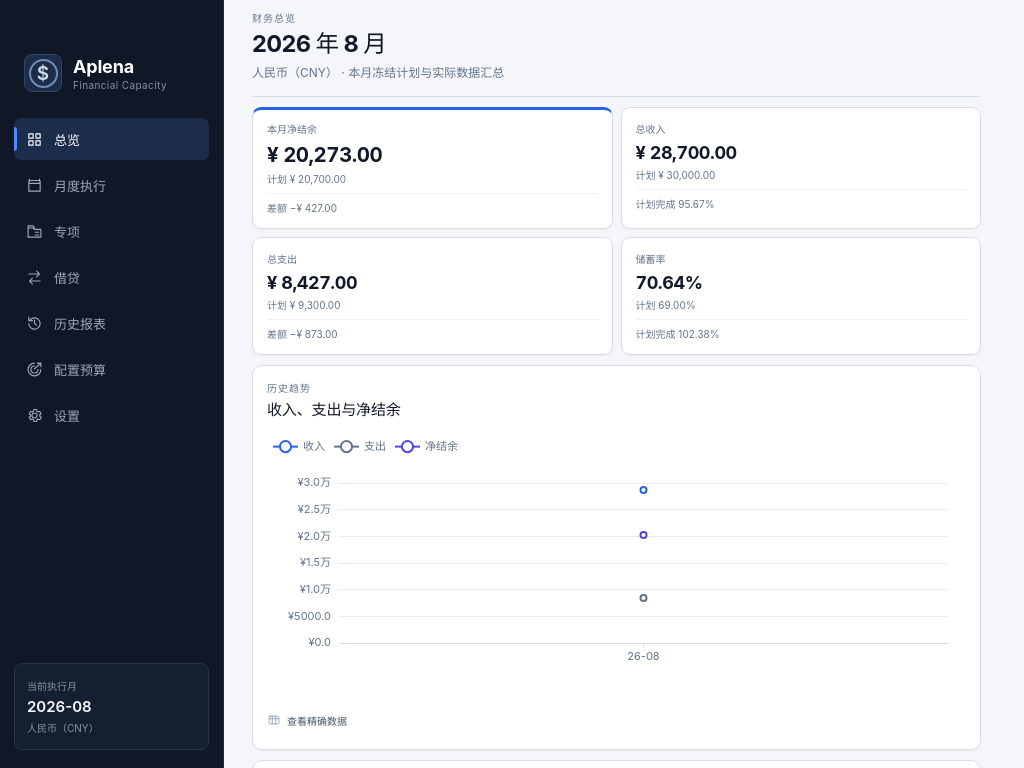
it: planning workflows › remounts the animated route view and resets scrolling when sidebar navigation changes pages
This screenshot has width=1024, height=768.
(page scrolled)
Check: the heading "2026 年 8 月" is shown, box [252,29,386,58]
Click the link "设置" at (53, 415), box [26,406,80,424]
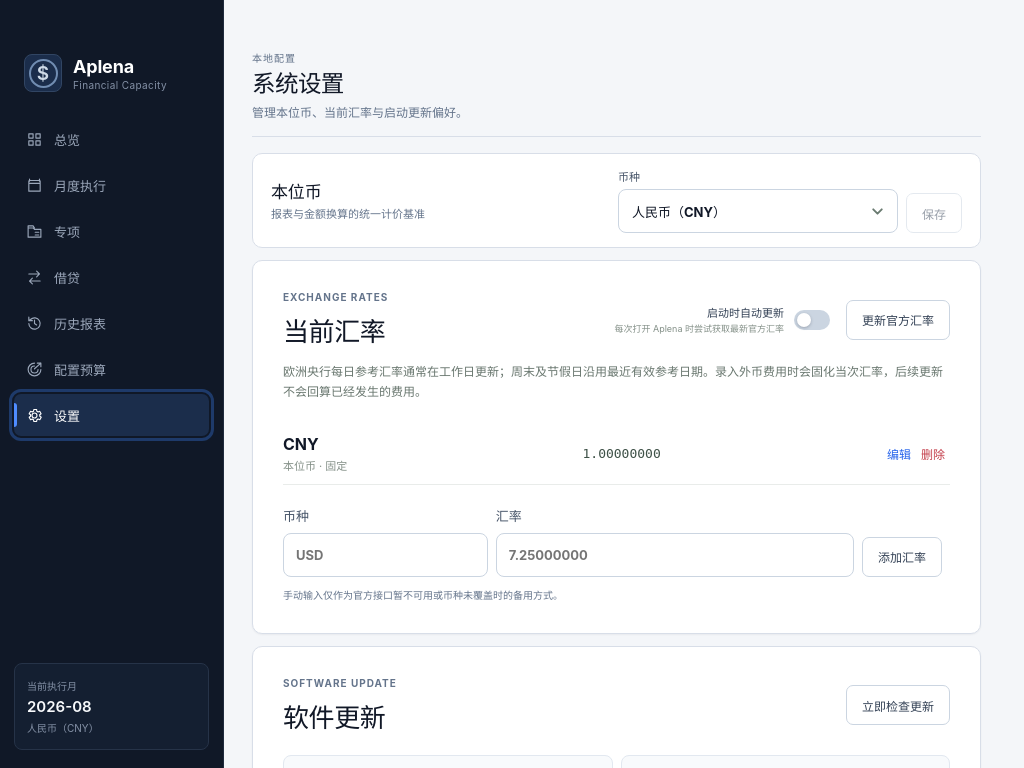
Check: the heading "系统设置" is shown, box [252,69,344,98]
